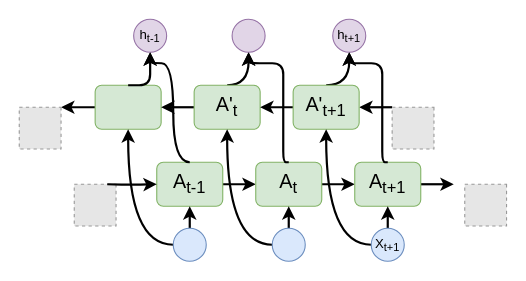
The diagram is 526 pixels wide and 281 high, and some of its shapes have lost their labels. Grey dashed boxes stand in for pictures. The centre of each missing label's shape, as x and y in pixels:
"A' t-1" belongs at point (127, 106).
"h t" belongs at point (248, 35).
"X t" belongs at point (288, 244).
"X t-1" belongs at point (189, 244).
